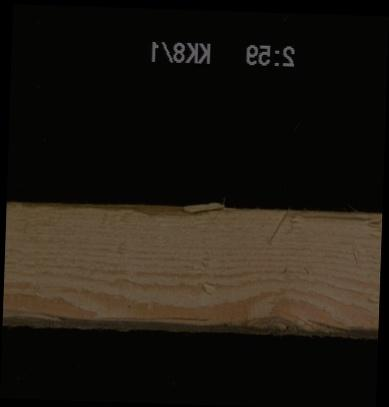split: (19, 201, 241, 221), (288, 209, 381, 227), (101, 312, 214, 321)
wave: (220, 307, 352, 332), (2, 305, 75, 325)
